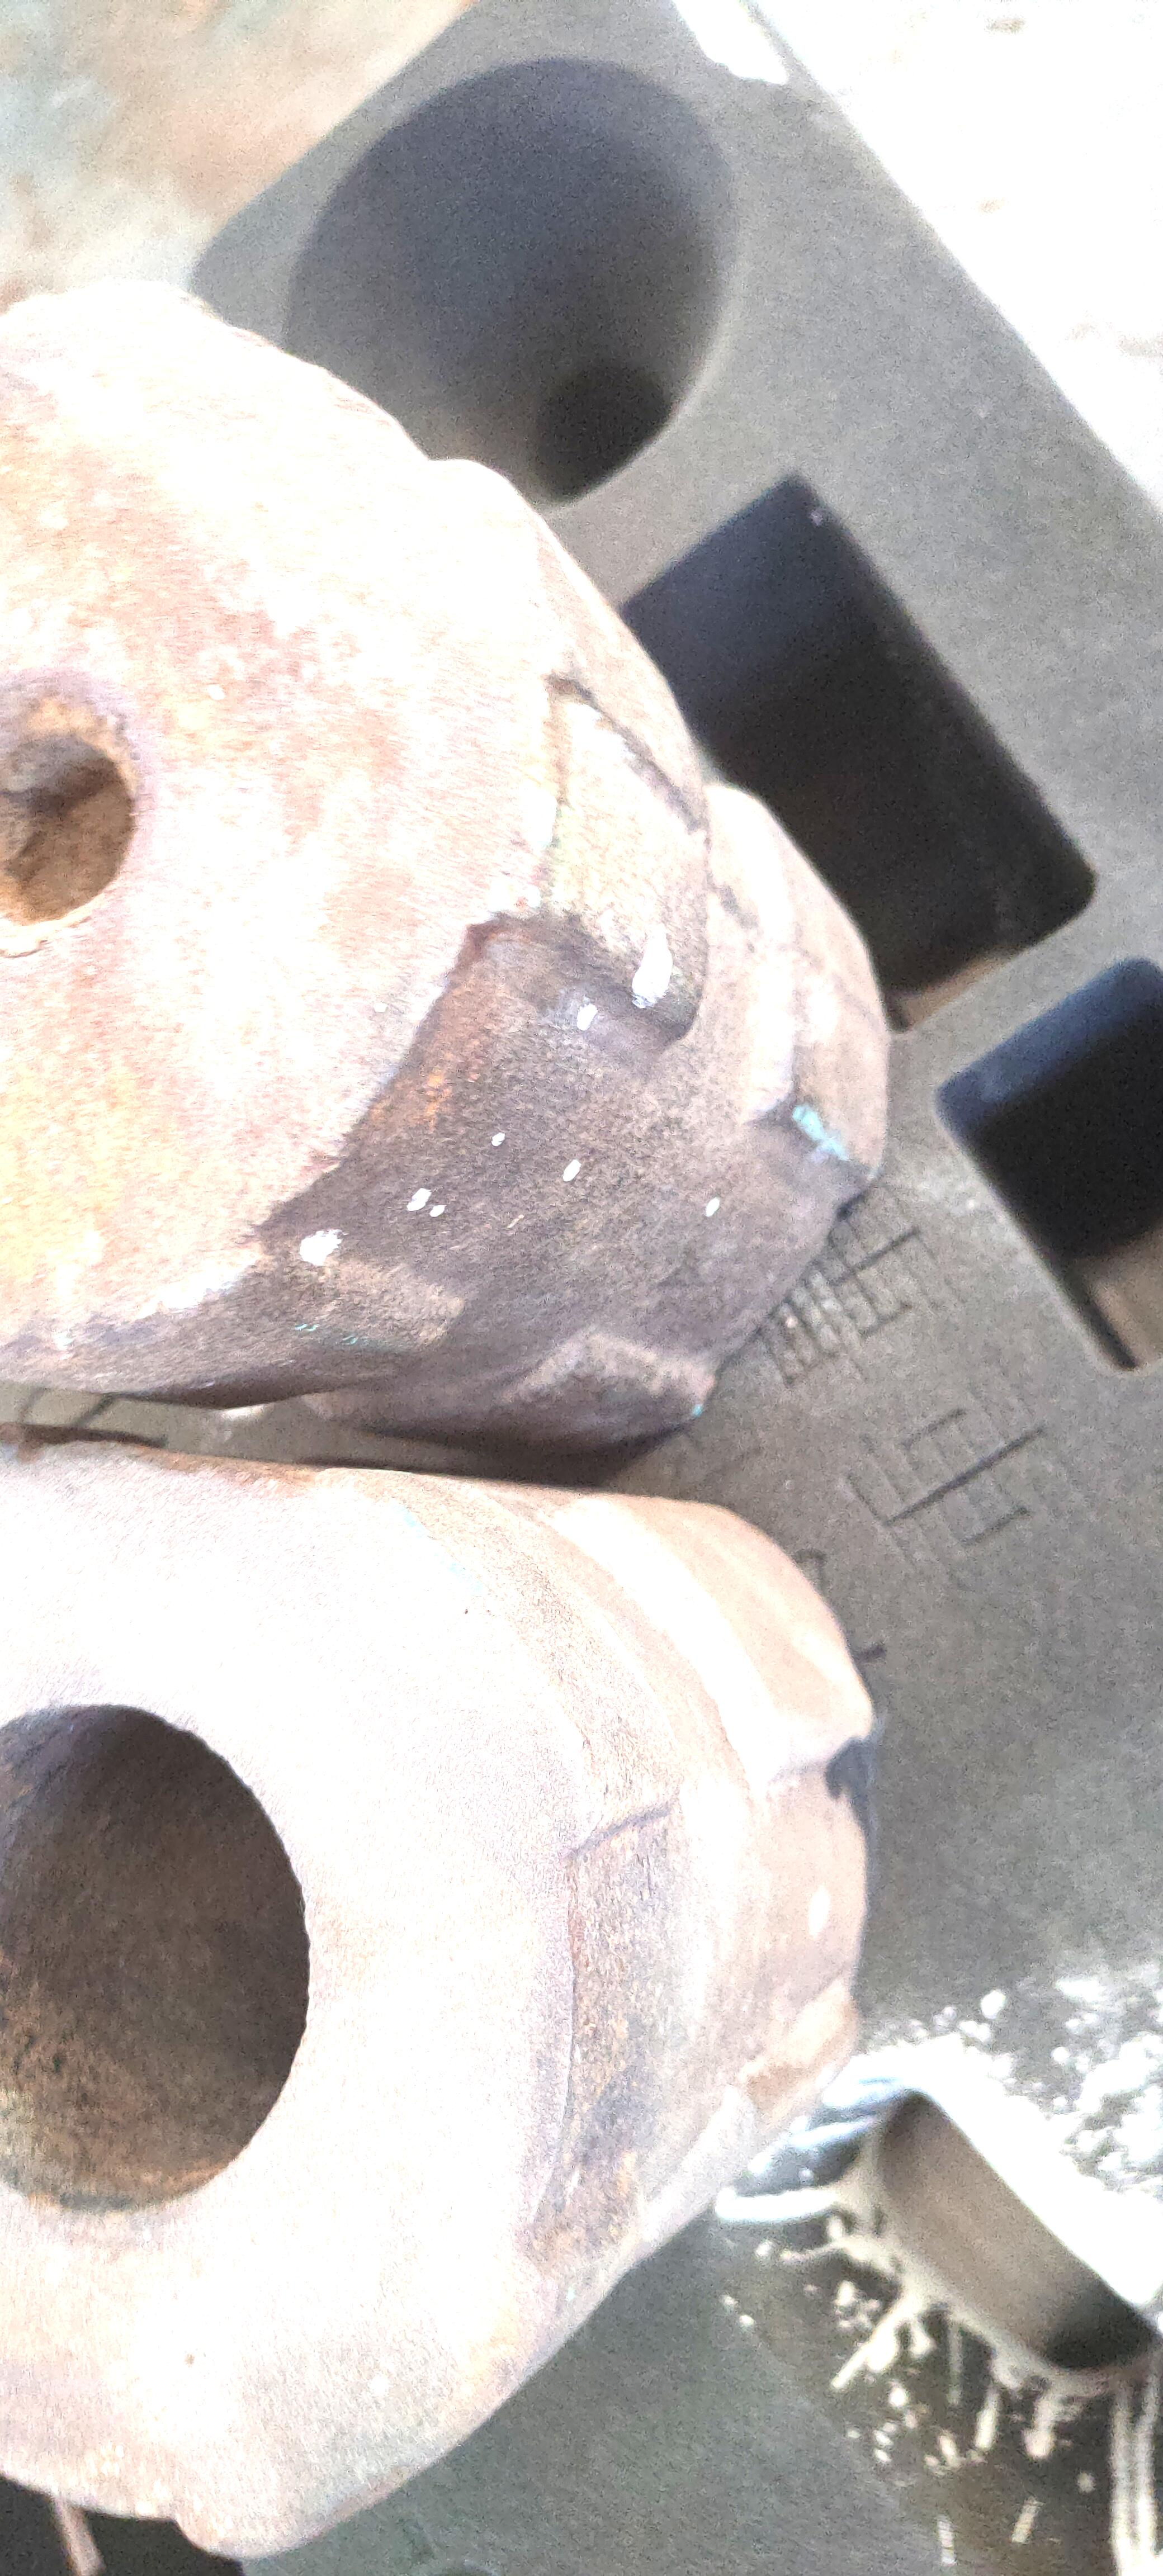pouring hole: (273, 56, 744, 517)
